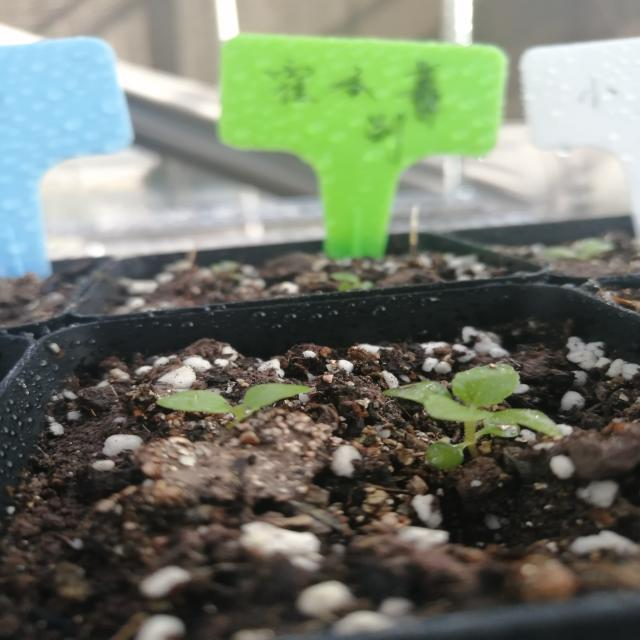billygoat_weed: (379, 346, 559, 483), (136, 351, 338, 444)
